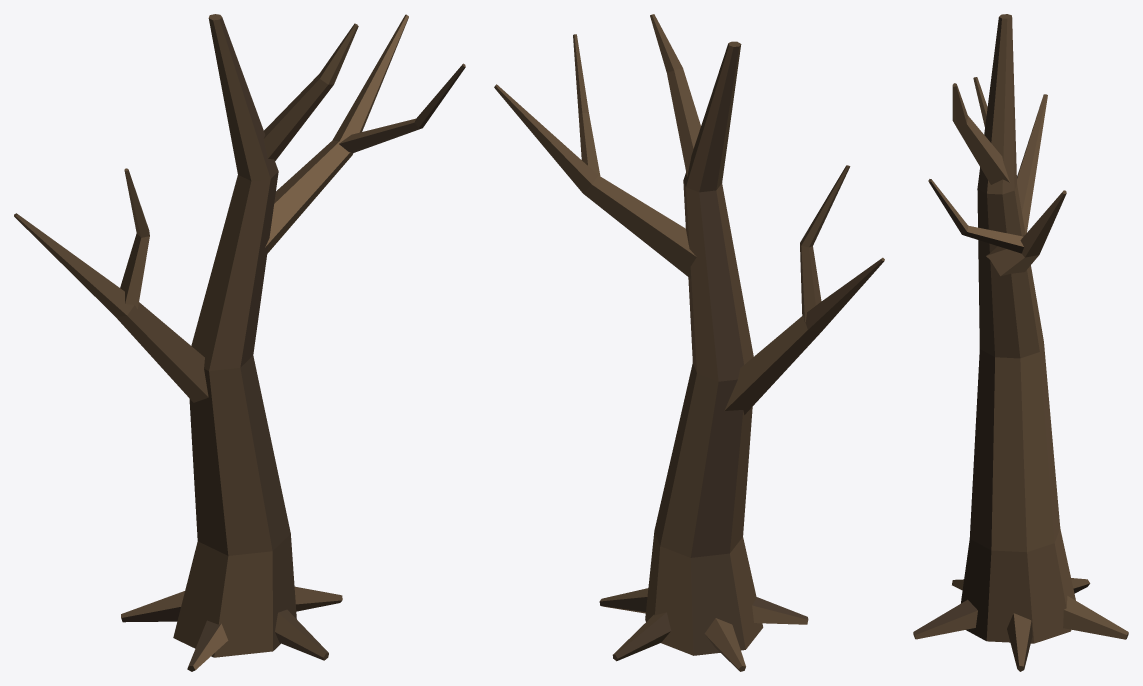
File: Dead_Tree.obj
The picture shows the model from 3 angles, left to right: view 1: azimuth 30°, elevation 25°; view 2: azimuth 150°, elevation 25°; view 3: azimuth 270°, elevation 25°; orthographic projection. The views are drawn at different scales.
Parts seen in each view (by area): view 1: Dead_Tree; view 2: Dead_Tree; view 3: Dead_Tree.
Boxes of the visible parts, bbox=[...] form: Dead_Tree: bbox=[14, 14, 465, 671]; Dead_Tree: bbox=[494, 14, 884, 671]; Dead_Tree: bbox=[913, 14, 1128, 671].
Bounding box in the file's own units: 2.35 × 3.47 × 1.14.
1 material, 1 textured.
